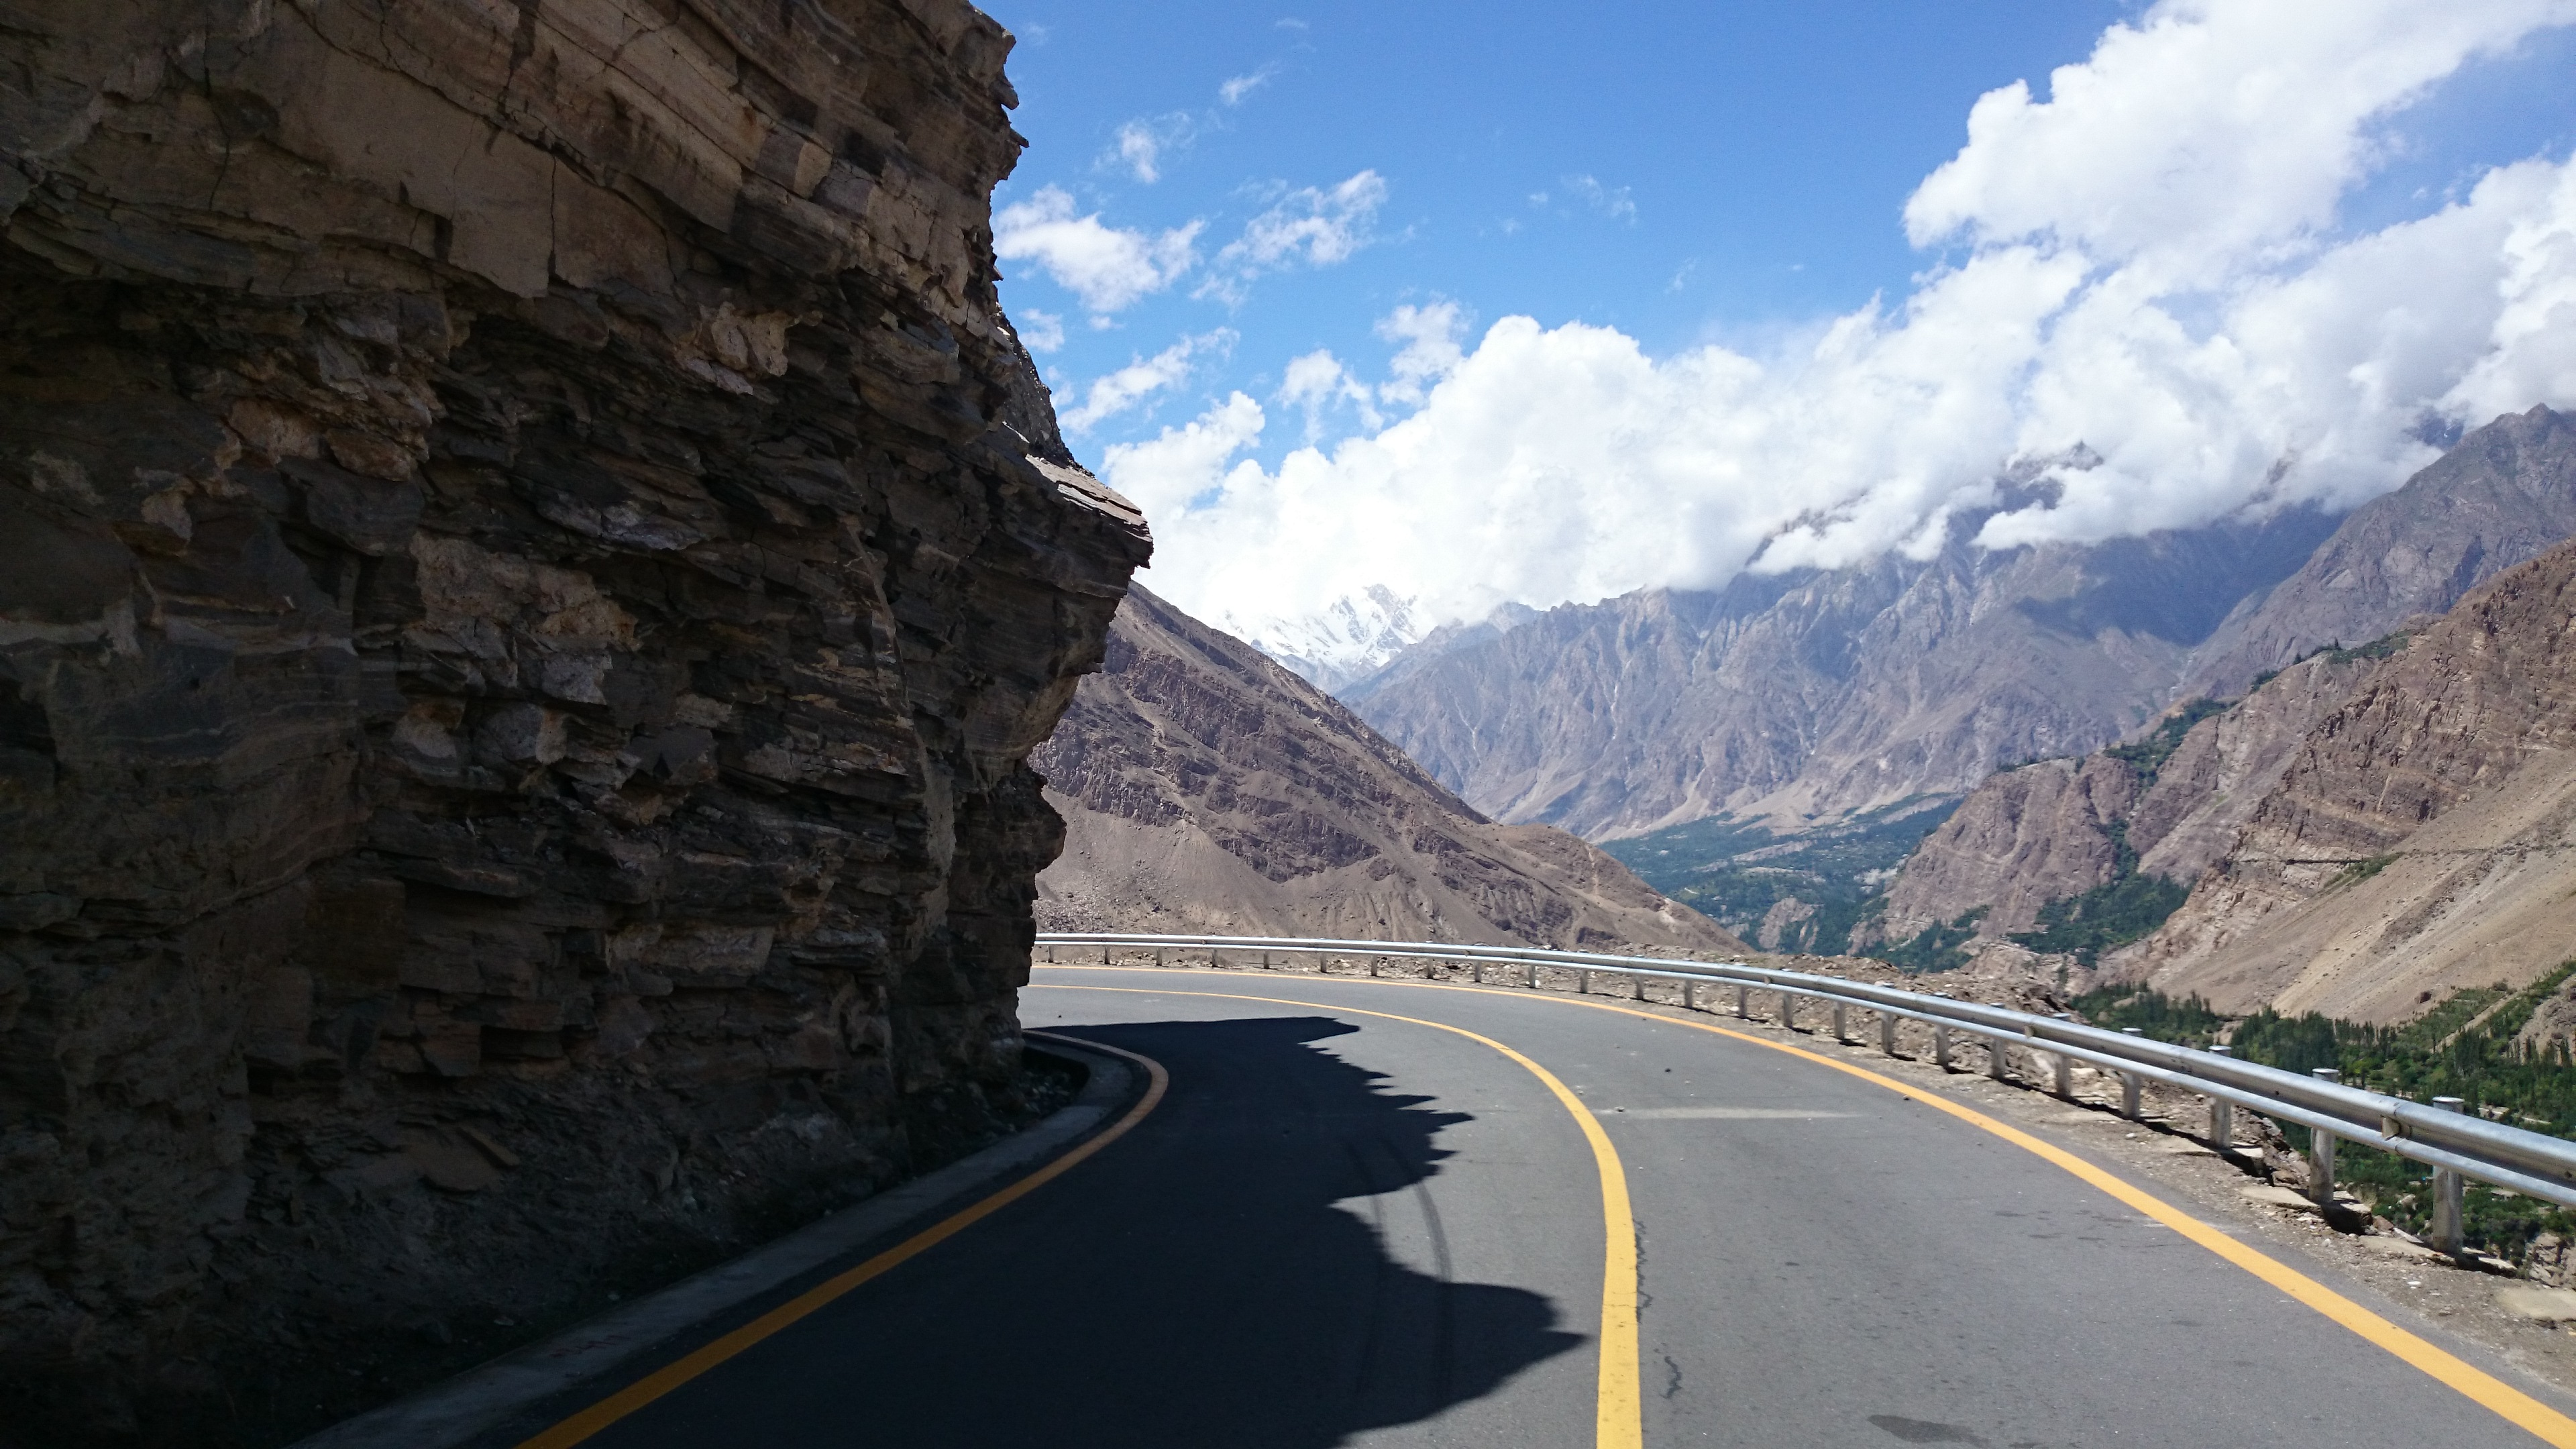leftTrun: (1012, 854, 2397, 1449)
